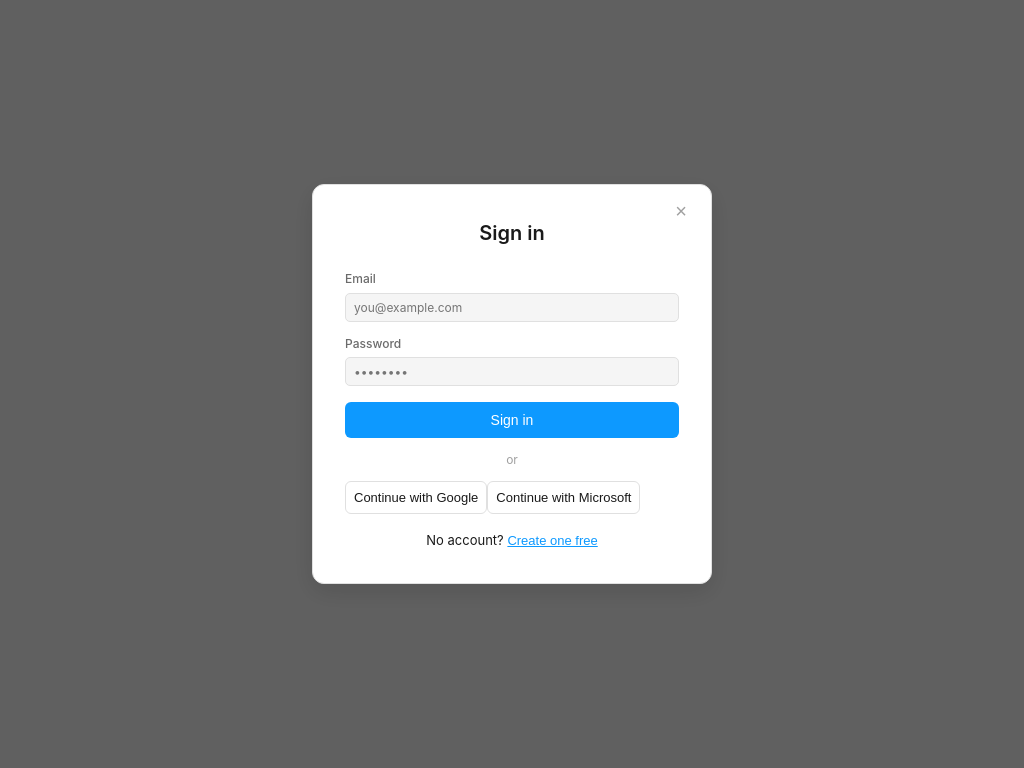
Test: T-AUTH-007: AuthModal MFA TOTP challenge step › T-AUTH-007-12: non-MFA signIn errors still show inline error (not TOTP step)
Step 1. Type "x@x.com" into the field labelled "Email" → (512, 307), box [345,292,679,322]
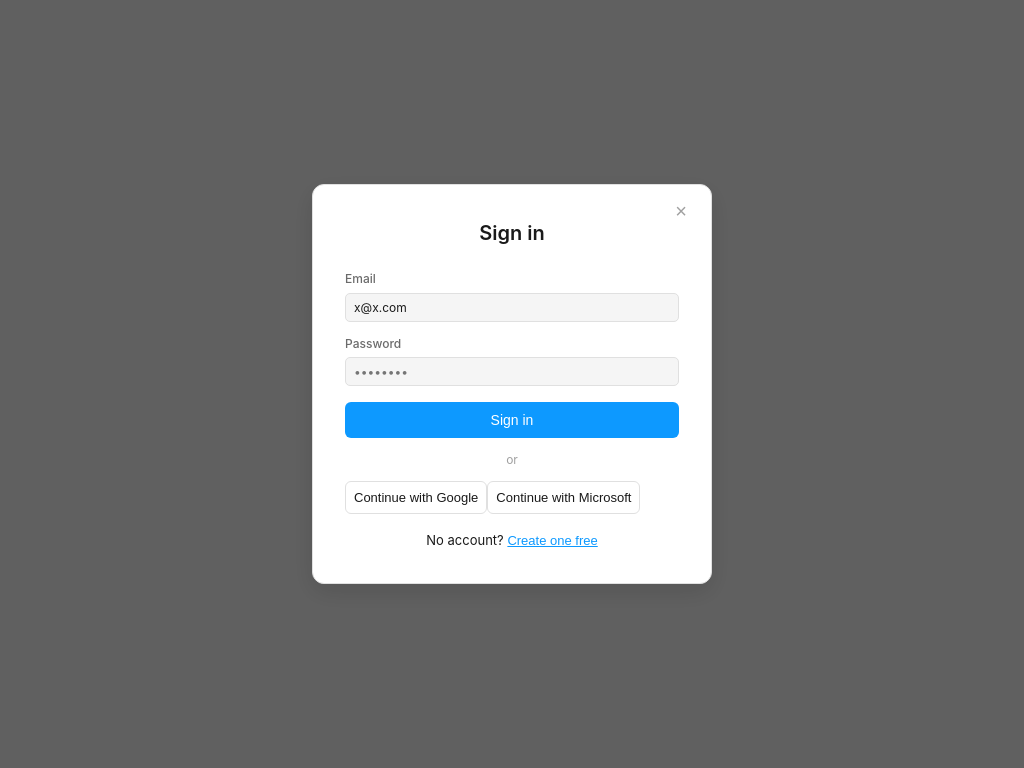
Step 2. Type "wrongpw" into the password field labelled "Password" → (512, 371), box [345,357,679,386]
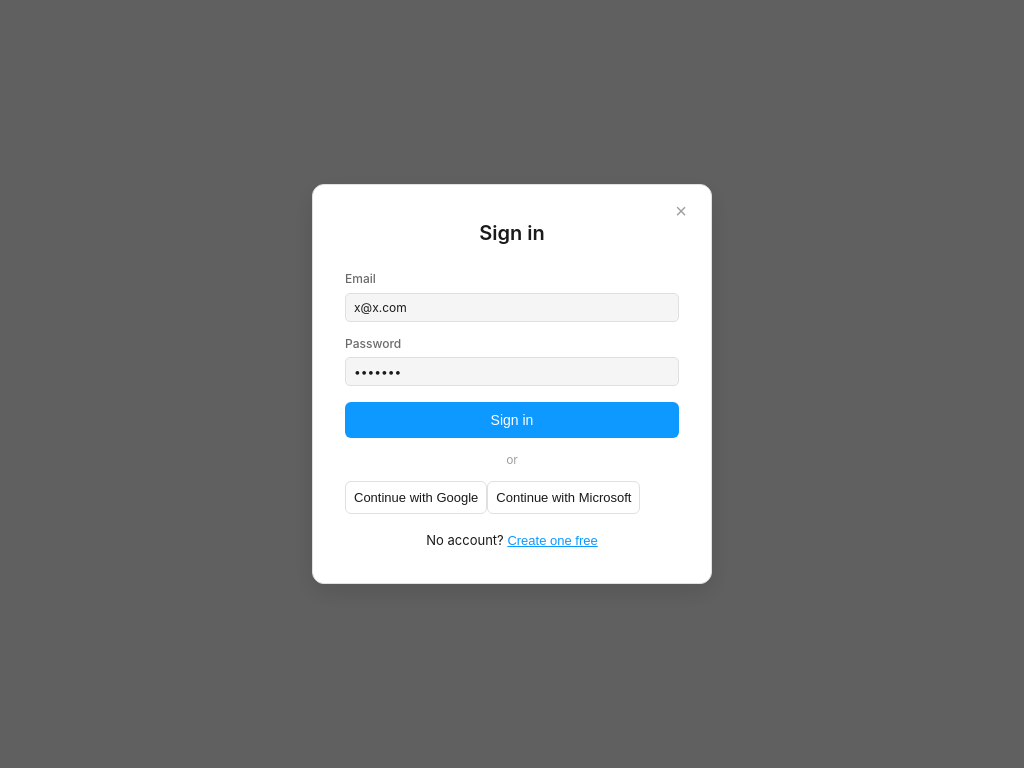
Step 3. Click the button "Sign in" → (512, 420), box [345,402,679,438]
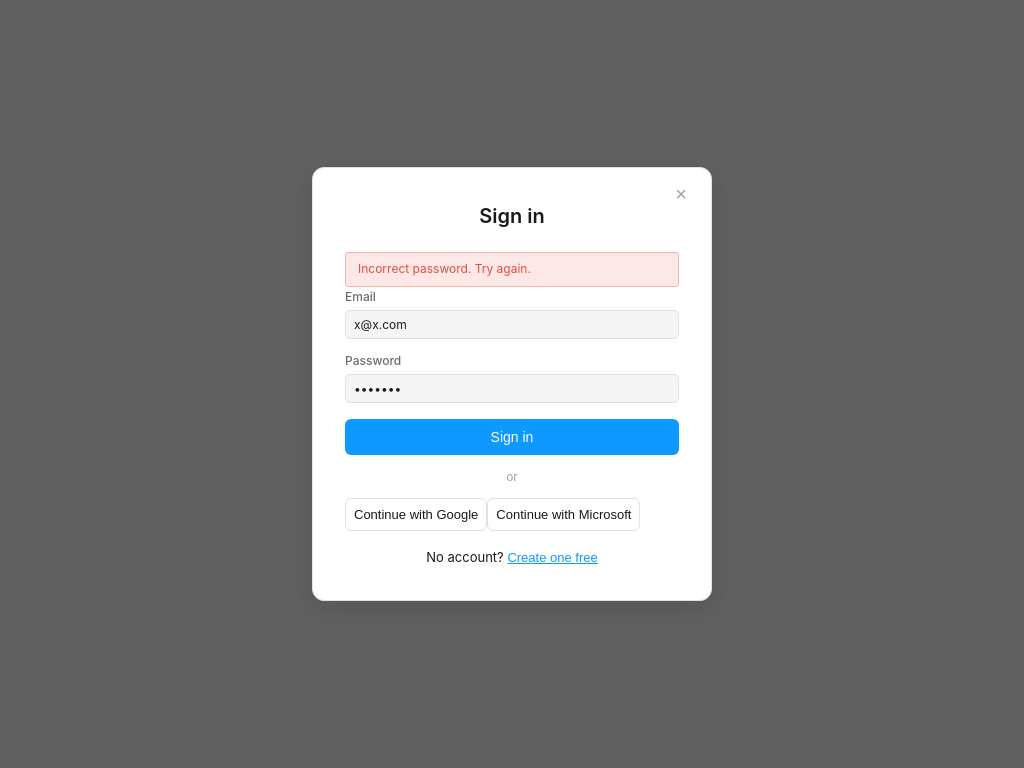
Check: the message "Incorrect password. Try again." is shown, box [345,252,679,287]
